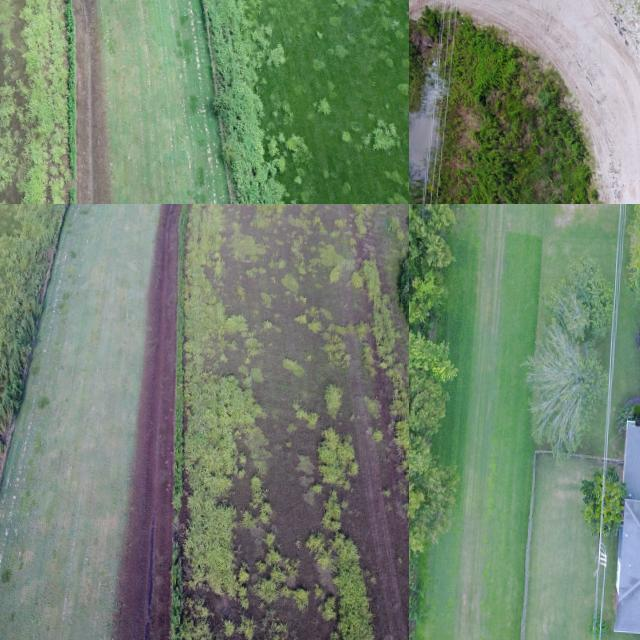fire: (409, 77, 433, 181)
